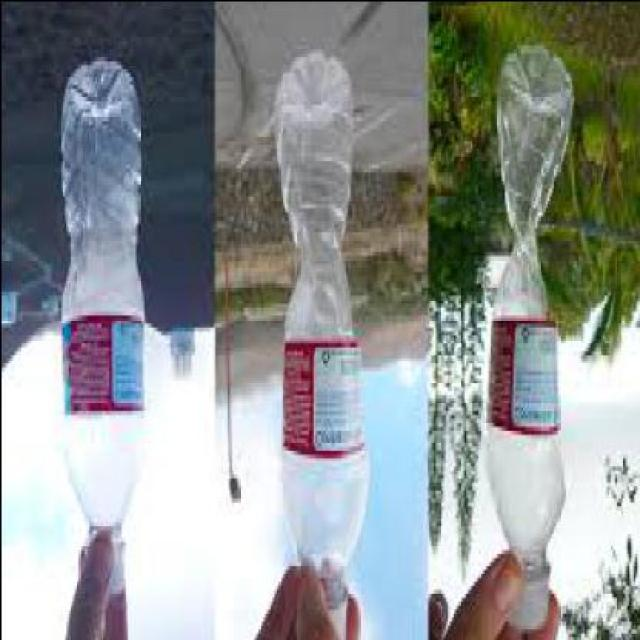PLASTIC: (272, 51, 371, 638), (485, 52, 577, 628), (61, 60, 145, 605), (510, 565, 552, 632), (88, 532, 126, 600), (304, 596, 350, 638)
